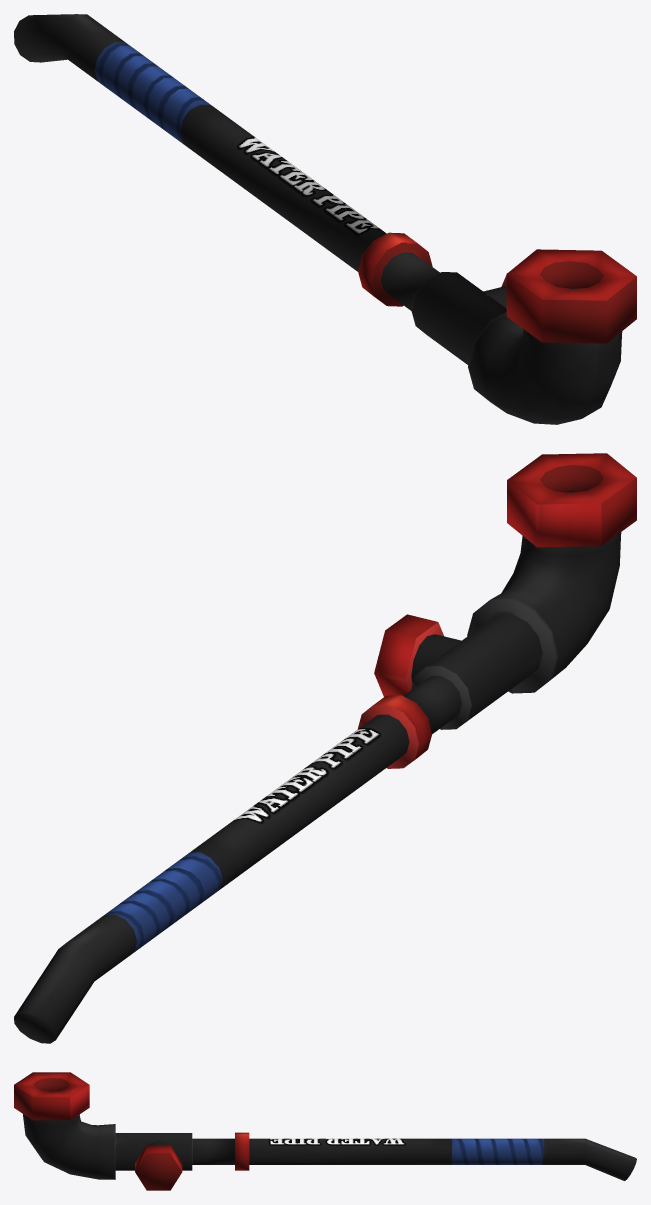
Rendered from W011_0100_Skin.FBX.
3 renders of one model, top to bottom at view 1: azimuth 30°, elevation 25°; view 2: azimuth 150°, elevation 25°; view 3: azimuth 270°, elevation 25°, orthographic. The views are drawn at different scales.
Parts seen in each view (by area): view 1: W011_0100; view 2: W011_0100; view 3: W011_0100.
Boxes of the visible parts, x1=… form: W011_0100: x1=14, y1=14, x2=636, y2=424; W011_0100: x1=14, y1=453, x2=636, y2=1043; W011_0100: x1=14, y1=1072, x2=636, y2=1190.
Size of the model in its own units: 32.31 by 43.8 by 260.
